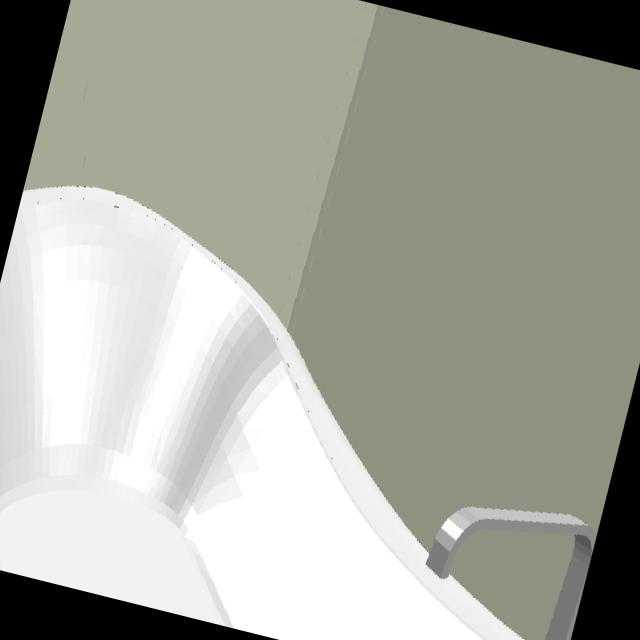bathtube: (0, 188, 583, 640)
